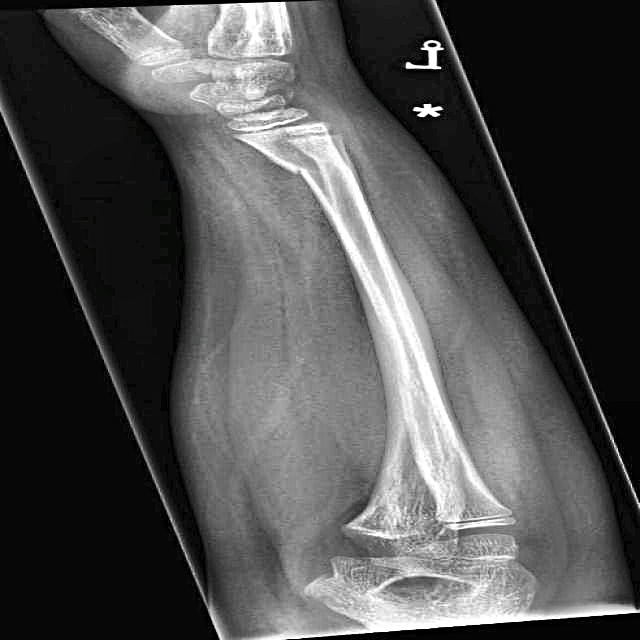Greenstick: (251, 145, 384, 195)
